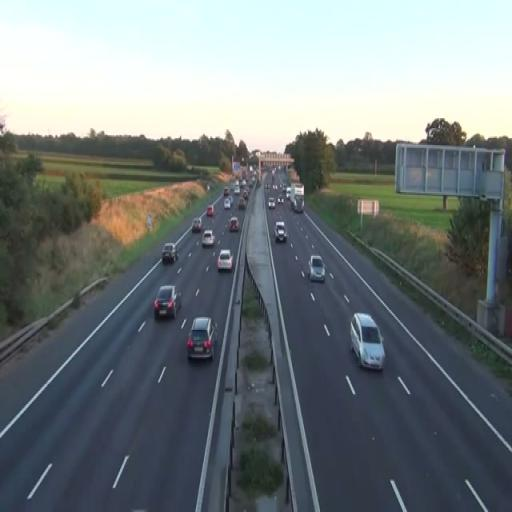Car: (349, 313, 385, 371), (186, 316, 218, 362), (154, 284, 182, 320), (308, 254, 326, 282), (217, 249, 234, 273), (162, 242, 178, 264), (274, 221, 288, 243), (202, 230, 215, 248), (229, 216, 240, 232), (206, 204, 216, 218)
Truck: (290, 182, 304, 212)
